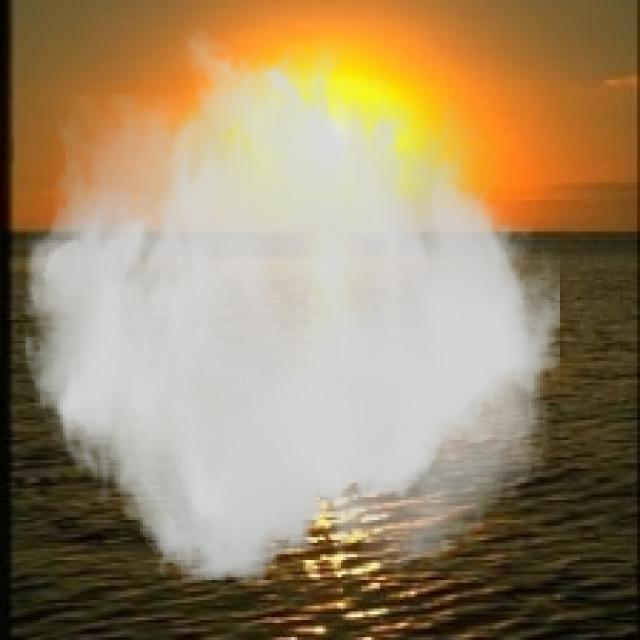Smoke: (17, 26, 560, 583)
